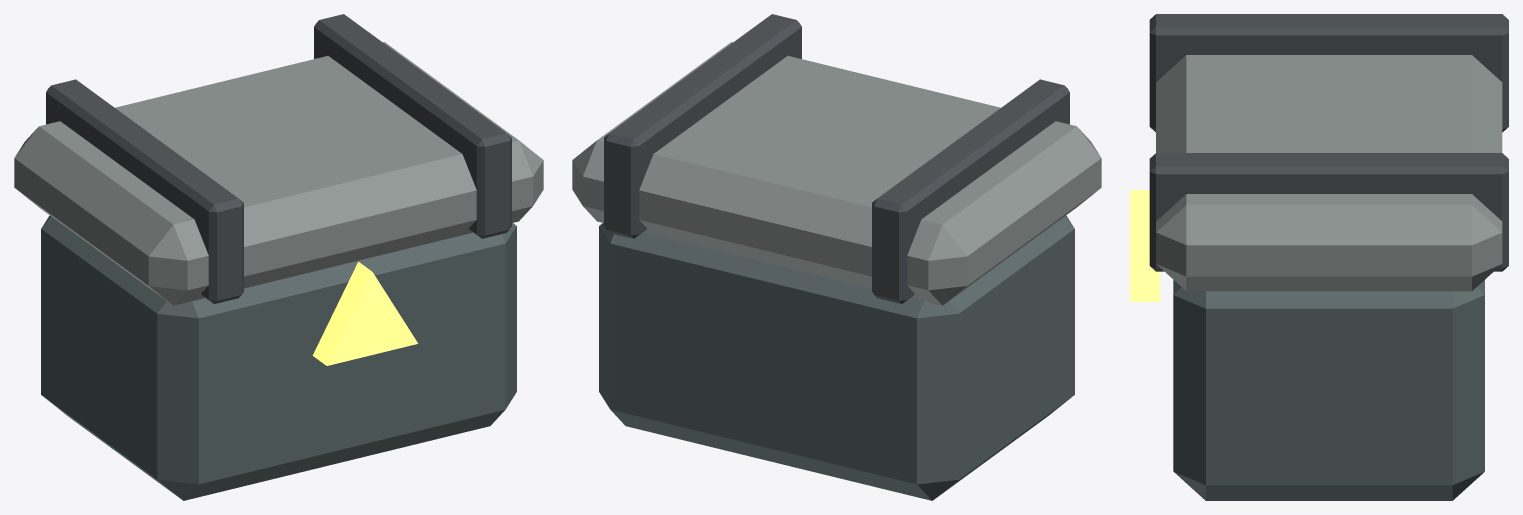
The model's file is PROP_Maze_Chest.fbx.
3 views of the same model, side by side, from view 1: azimuth 30°, elevation 25°; view 2: azimuth 150°, elevation 25°; view 3: azimuth 270°, elevation 25° (orthographic). The views are drawn at different scales.
Visible parts, largest first — view 1: PROP_Maze_Chest; view 2: PROP_Maze_Chest; view 3: PROP_Maze_Chest.
Boxes of the visible parts, box(x1,y1,x2,y2) form: PROP_Maze_Chest: box(14, 14, 543, 500); PROP_Maze_Chest: box(572, 14, 1101, 500); PROP_Maze_Chest: box(1130, 14, 1508, 500).
Size of the model in its own units: 112 by 84.5 by 87.5.
